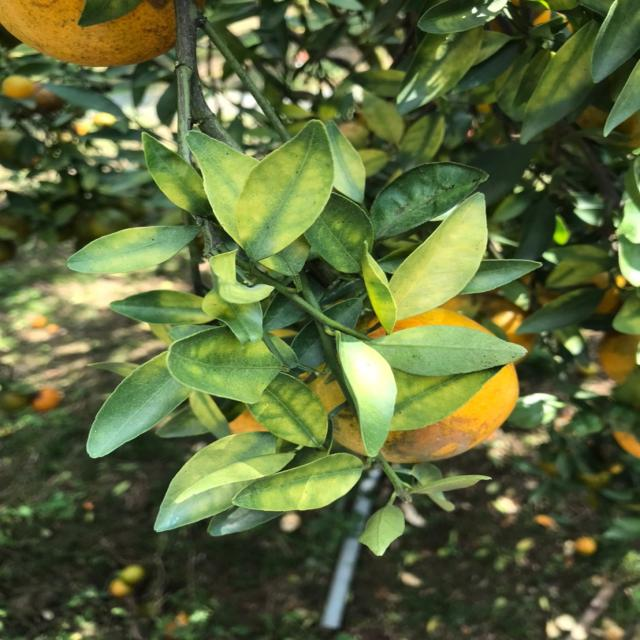blackspot: (241, 117, 331, 256), (151, 435, 274, 532), (394, 197, 489, 321), (68, 222, 196, 281), (374, 329, 525, 376), (178, 337, 292, 399), (311, 190, 379, 278), (183, 130, 249, 218), (251, 379, 328, 449), (358, 240, 406, 338)
